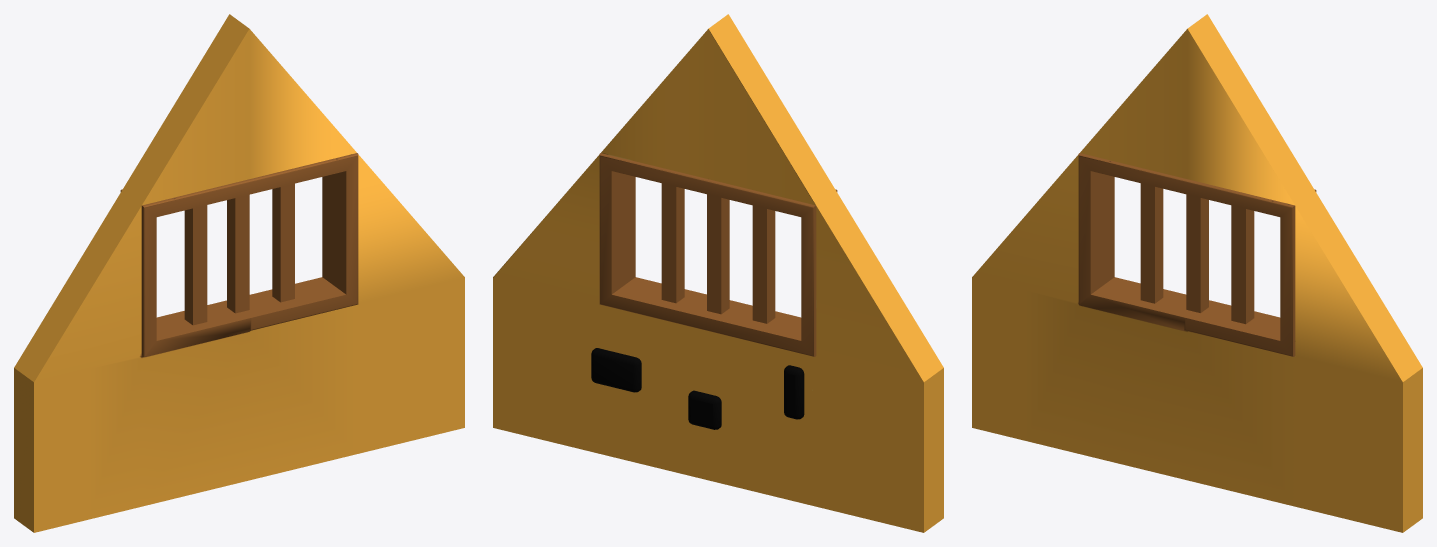
File: Wall Up 1.fbx
3 views of the same model, side by side, from view 1: azimuth 30°, elevation 25°; view 2: azimuth 150°, elevation 25°; view 3: azimuth 330°, elevation 25° (orthographic).
Visible parts, largest first — view 1: Wall Up 1; view 2: Wall Up 1; view 3: Wall Up 1.
Part boxes in pixels (x1=…): Wall Up 1: x1=14, y1=14, x2=464, y2=532; Wall Up 1: x1=493, y1=14, x2=943, y2=532; Wall Up 1: x1=972, y1=14, x2=1422, y2=532.
Bounding box in the file's own units: 249 × 249 × 26.
Materials: 1 (1 with a texture image).
